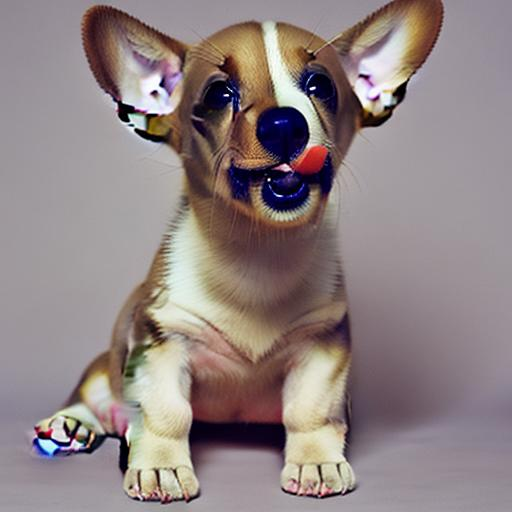eye: (191, 72, 246, 114), (293, 69, 341, 110)
